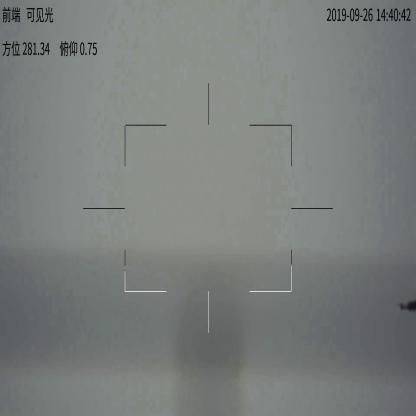uav: (398, 293, 415, 319)
